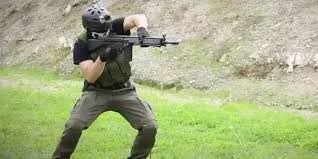Gun: (91, 35, 172, 61)
